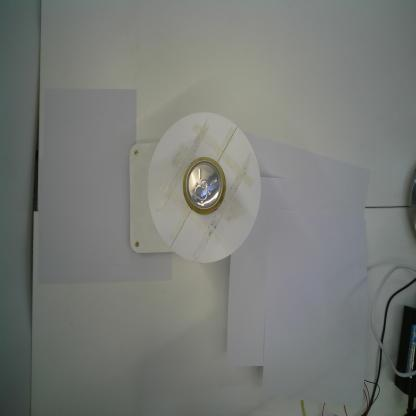Alcohol: (181, 154, 229, 218)
